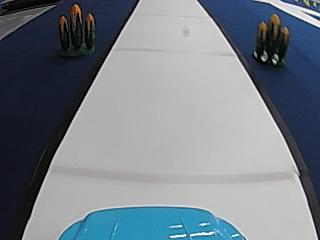corn: (53, 4, 99, 58), (250, 16, 293, 66)
